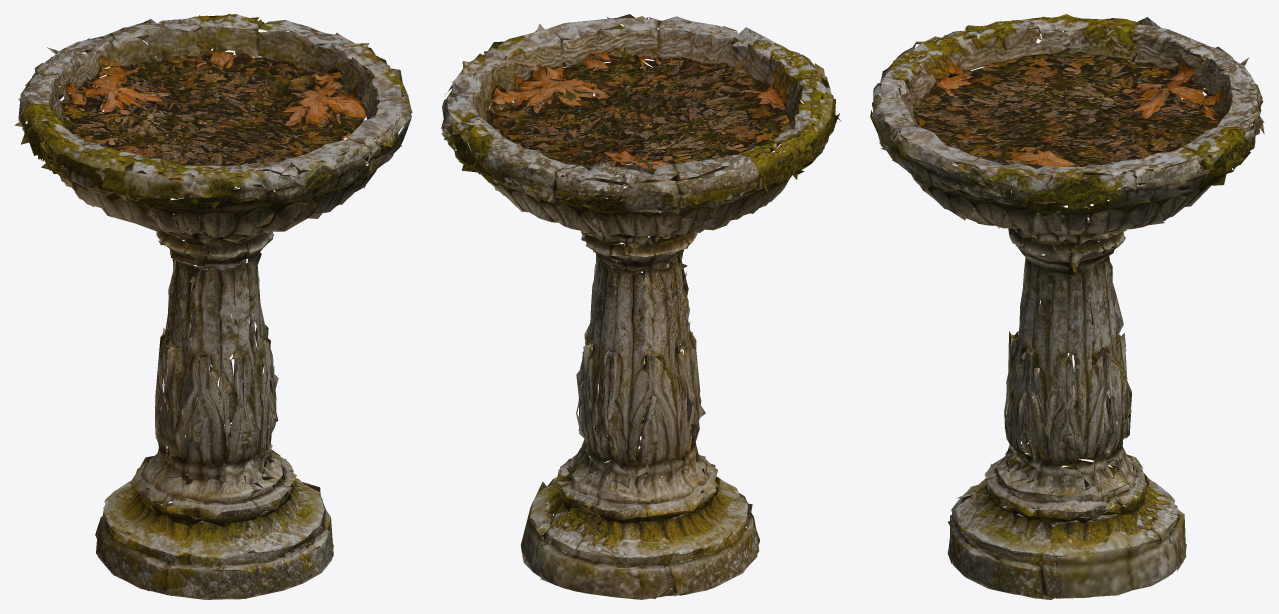
File: BirdBath.fbx
3 views of the same model, side by side, from view 1: azimuth 30°, elevation 25°; view 2: azimuth 150°, elevation 25°; view 3: azimuth 270°, elevation 25° (orthographic).
Visible parts, largest first — view 1: BirdBath; view 2: BirdBath; view 3: BirdBath.
Part boxes in pixels (bbox=[...]): BirdBath: bbox=[14, 14, 412, 599]; BirdBath: bbox=[441, 14, 841, 599]; BirdBath: bbox=[870, 14, 1264, 599].
Bounding box in the file's own units: 80.05 × 101 × 78.27.
Materials: 1 (1 with a texture image).
